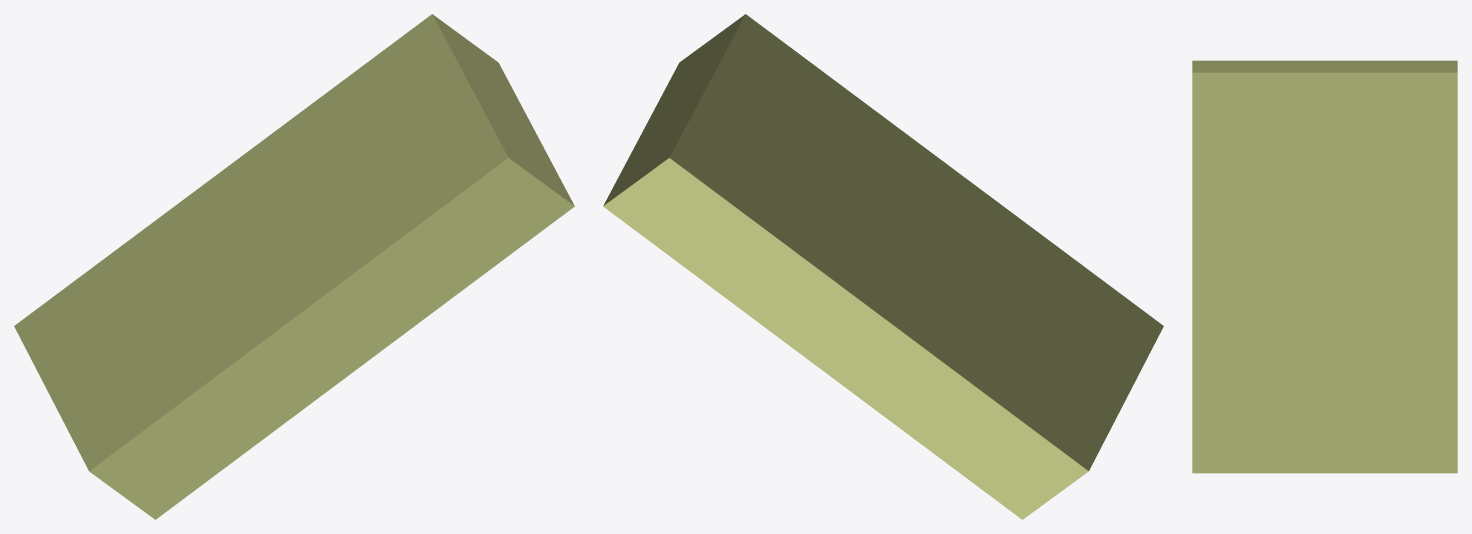
3 renders of one model, left to right at view 1: azimuth 30°, elevation 25°; view 2: azimuth 150°, elevation 25°; view 3: azimuth 270°, elevation 25°, orthographic. The views are drawn at different scales.
Parts seen in each view (by area): view 1: 0_1_1_3_2_0_2_3_2; view 2: 0_1_1_3_2_0_2_3_2; view 3: 0_1_1_3_2_0_2_3_2.
Boxes of the visible parts, box(x1,y1,x2,y2) form: 0_1_1_3_2_0_2_3_2: box(14, 14, 574, 519); 0_1_1_3_2_0_2_3_2: box(603, 14, 1163, 519); 0_1_1_3_2_0_2_3_2: box(1192, 60, 1457, 473).
Bounding box in the file's own units: 25.8 × 18.62 × 6.
